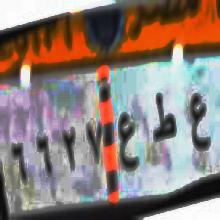2: (58, 121, 79, 174)
6: (36, 128, 55, 186), (9, 141, 32, 188)
7: (84, 110, 103, 172)
Taa: (150, 89, 178, 150)
ain: (188, 92, 214, 157), (118, 108, 140, 180)
